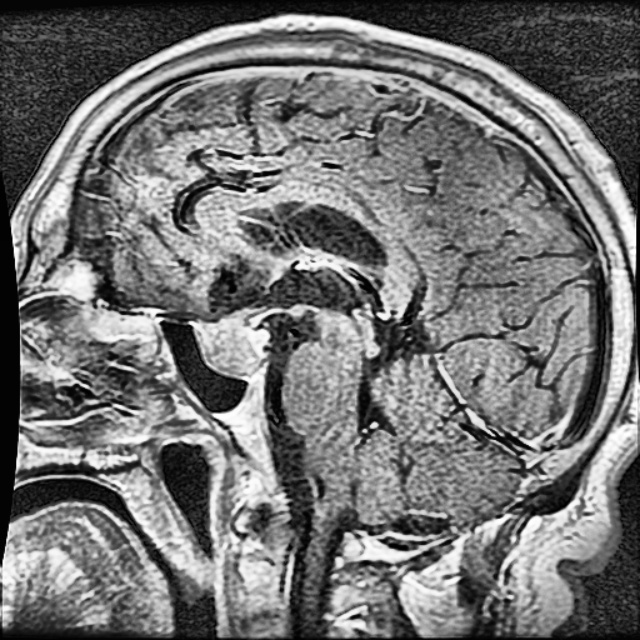Pituitary: (189, 309, 268, 380)
